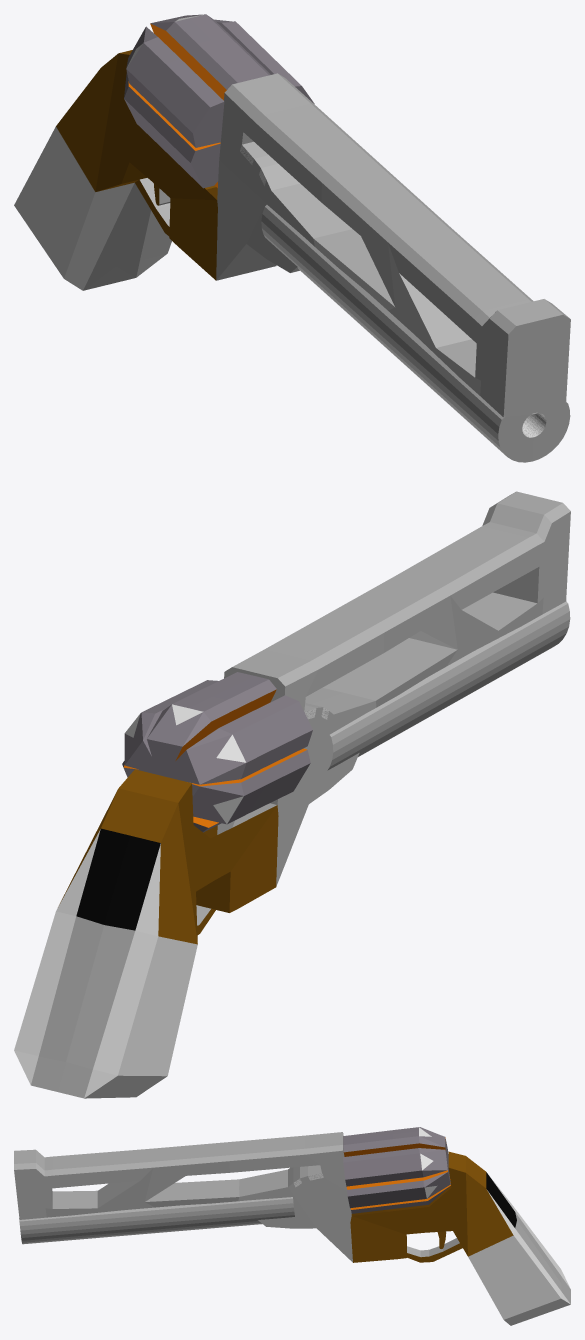
Rendered from revolver 1.fbx.
The picture shows the model from 3 angles, top to bottom: view 1: azimuth 30°, elevation 25°; view 2: azimuth 150°, elevation 25°; view 3: azimuth 270°, elevation 25°; orthographic projection. The views are drawn at different scales.
Parts seen in each view (by area): view 1: Cube, Cube.002; view 2: Cube, Cube.002; view 3: Cube, Cube.002.
Boxes of the visible parts, left/top/right/bottom form: Cube: left=14, top=50, right=570, bottom=462; Cube.002: left=124, top=14, right=314, bottom=188; Cube: left=14, top=491, right=570, bottom=1098; Cube.002: left=122, top=672, right=312, bottom=832; Cube: left=14, top=1132, right=570, bottom=1325; Cube.002: left=343, top=1127, right=450, bottom=1213.
Size of the model in its own units: 102 by 259 by 697.
